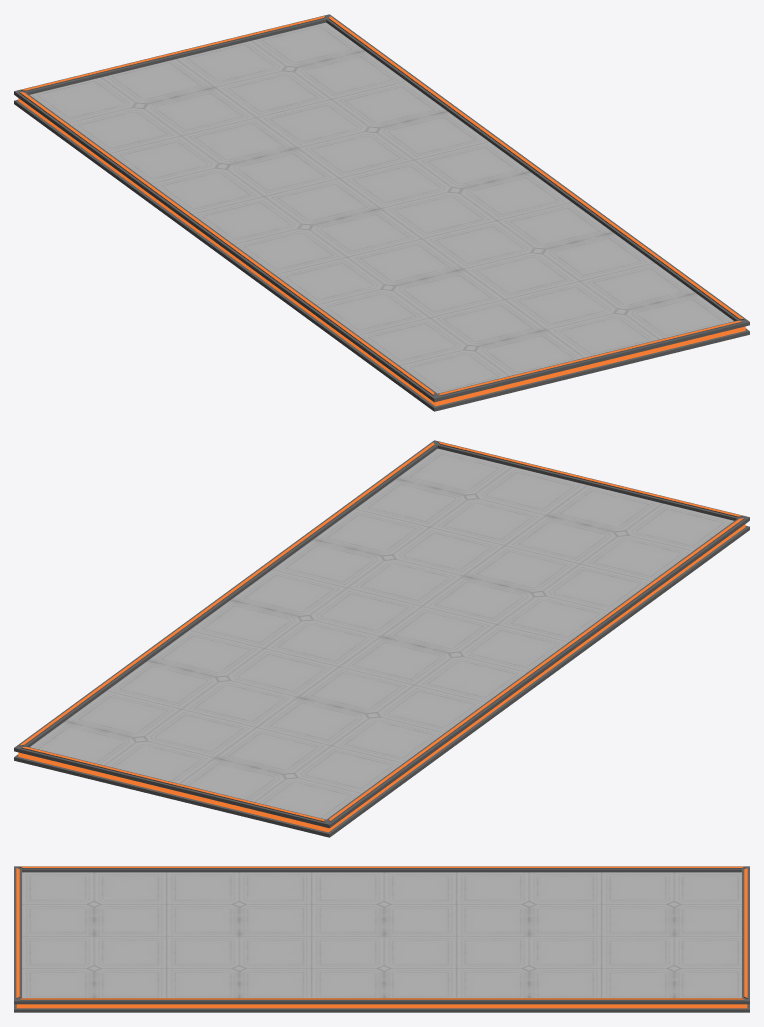
The model's file is Bodenplatte_07.glb.
3 renders of one model, top to bottom at view 1: azimuth 30°, elevation 25°; view 2: azimuth 150°, elevation 25°; view 3: azimuth 270°, elevation 25°, orthographic. The views are drawn at different scales.
Parts seen in each view (by area): view 1: Bodenplatte_07; view 2: Bodenplatte_07; view 3: Bodenplatte_07.
Boxes of the visible parts, x1,y1,x2,y2 form: Bodenplatte_07: (14, 14, 749, 411); Bodenplatte_07: (14, 440, 749, 837); Bodenplatte_07: (14, 866, 749, 1012).
Size of the model in its own units: 5.05 by 0.2097 by 11.65.
3 materials, 1 textured.
